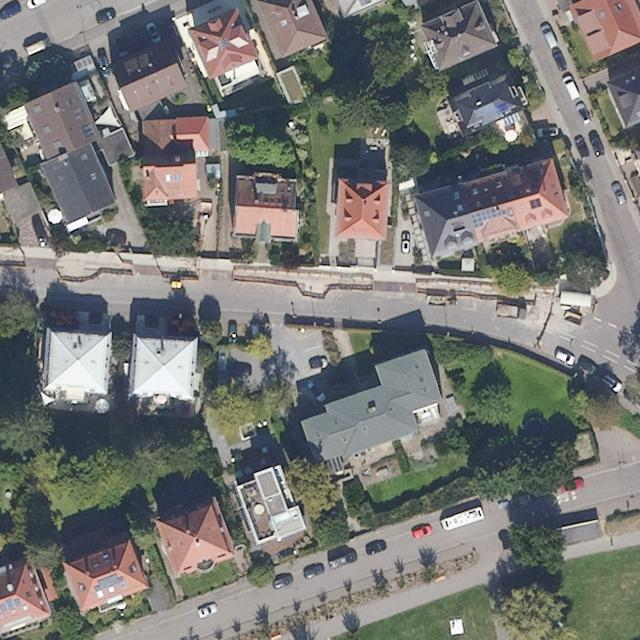PV: (471, 207, 508, 226), (94, 574, 126, 593), (0, 597, 23, 613), (495, 101, 510, 114), (530, 198, 541, 209)
